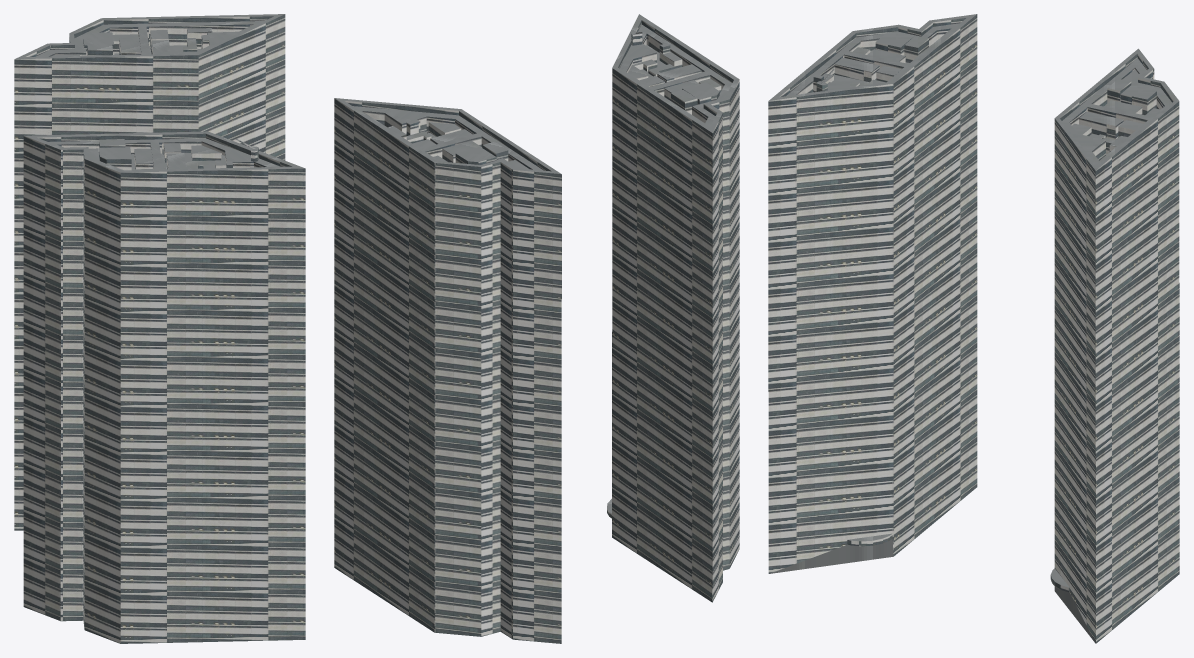
3 renders of one model, left to right at view 1: azimuth 30°, elevation 25°; view 2: azimuth 150°, elevation 25°; view 3: azimuth 270°, elevation 25°, orthographic.
Parts seen in each view (by area): view 1: The Gateway ribbon windows and spandrels, The Gateway roof and service walls; view 2: The Gateway ribbon windows and spandrels, The Gateway roof and service walls; view 3: The Gateway ribbon windows and spandrels, The Gateway roof and service walls.
Part boxes in pixels (x1=…): The Gateway ribbon windows and spandrels: x1=14, y1=14, x2=305, y2=643; The Gateway roof and service walls: x1=15, y1=14, x2=304, y2=172; The Gateway ribbon windows and spandrels: x1=334, y1=20, x2=739, y2=643; The Gateway roof and service walls: x1=335, y1=14, x2=739, y2=513; The Gateway ribbon windows and spandrels: x1=768, y1=14, x2=1179, y2=643; The Gateway roof and service walls: x1=769, y1=14, x2=1178, y2=642.
Bounding box in the file's own units: 104 × 151 × 115.
2 materials, 2 textured.
